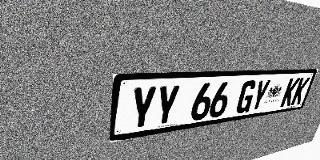6: (189, 82, 216, 121), (208, 81, 233, 118)
G: (234, 80, 258, 114)
K: (280, 78, 301, 107), (290, 77, 310, 105)
Y: (128, 86, 158, 131), (153, 84, 181, 127), (249, 79, 271, 112)
